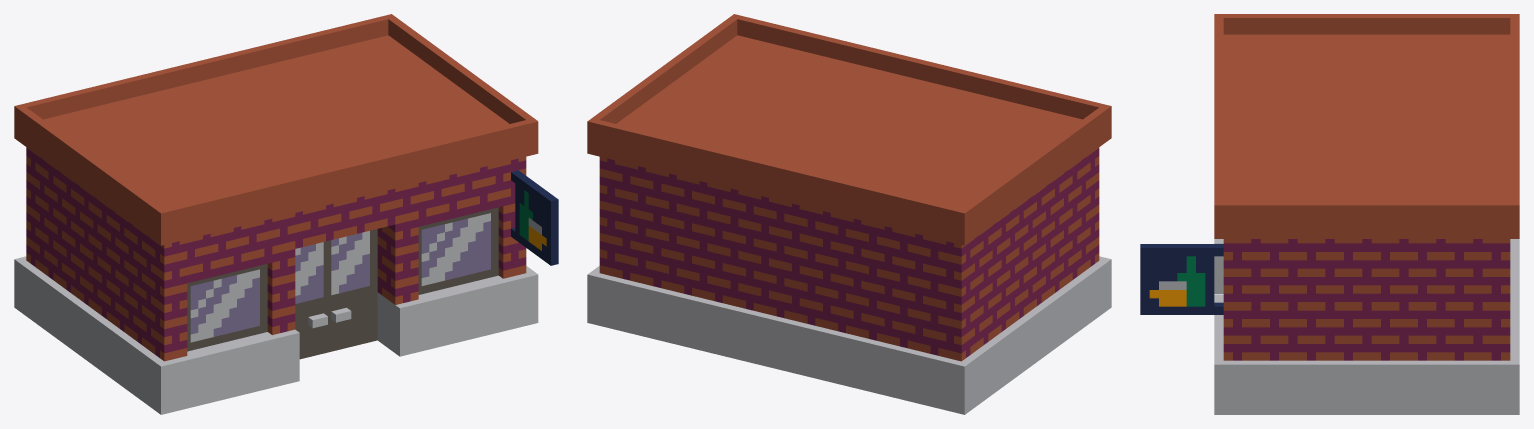
The model's file is pub_a.obj.
3 views of the same model, side by side, from view 1: azimuth 30°, elevation 25°; view 2: azimuth 150°, elevation 25°; view 3: azimuth 270°, elevation 25° (orthographic). The views are drawn at different scales.
Bounding box in the file's own units: 4.9 × 2.5 × 4.1.
1 material, 1 textured.
